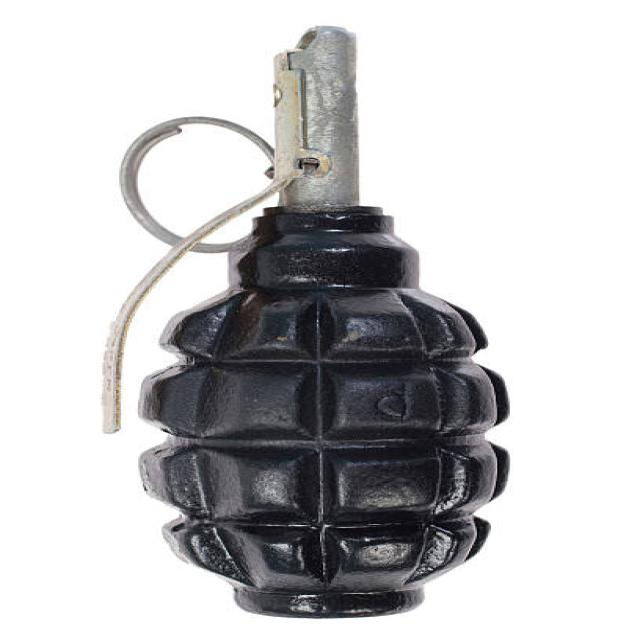grenade: (90, 17, 549, 630)
